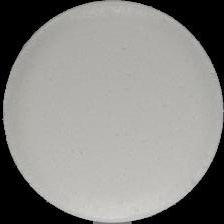60429-250: (0, 0, 224, 224)
